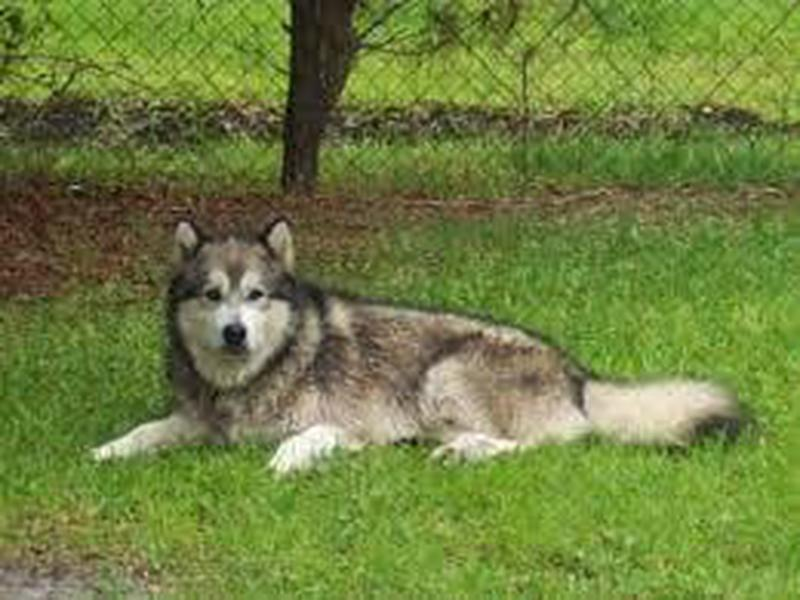dog_down: (89, 215, 744, 477)
